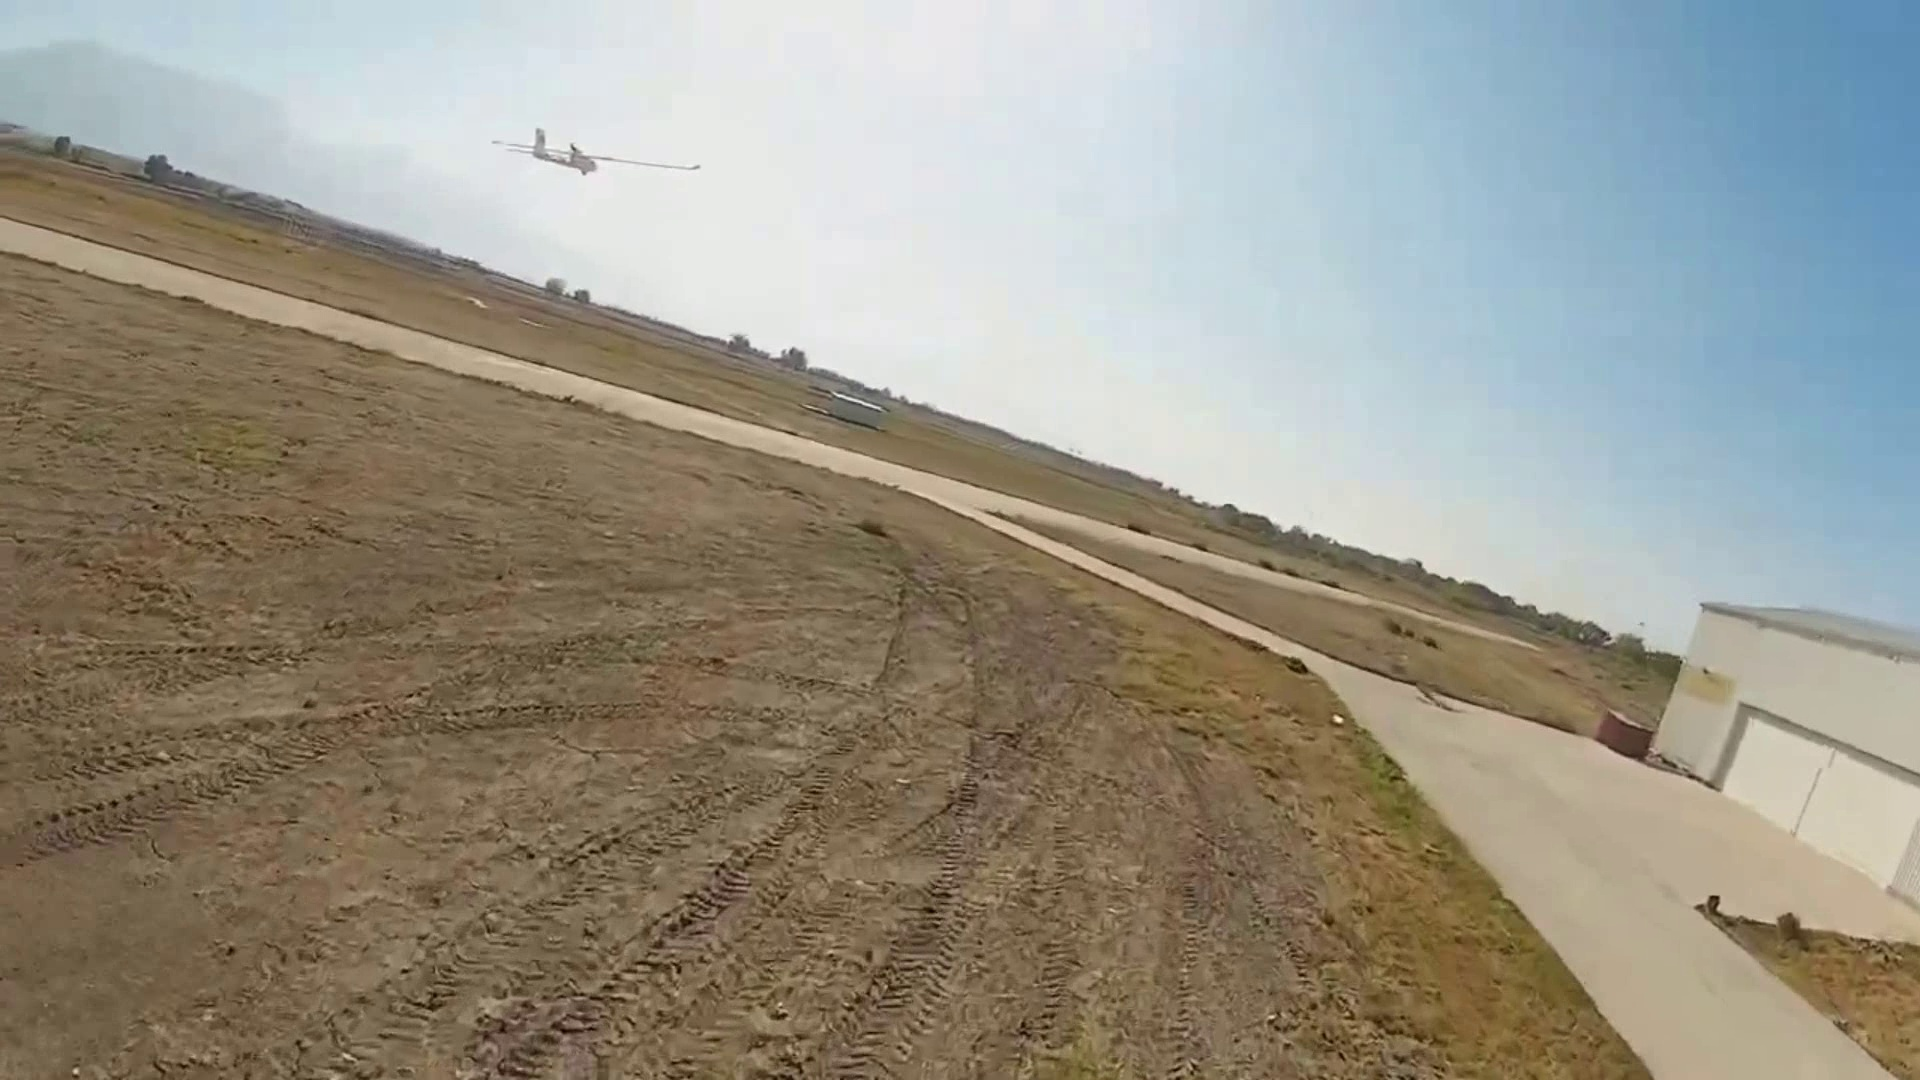airplane: (489, 125, 702, 181)
